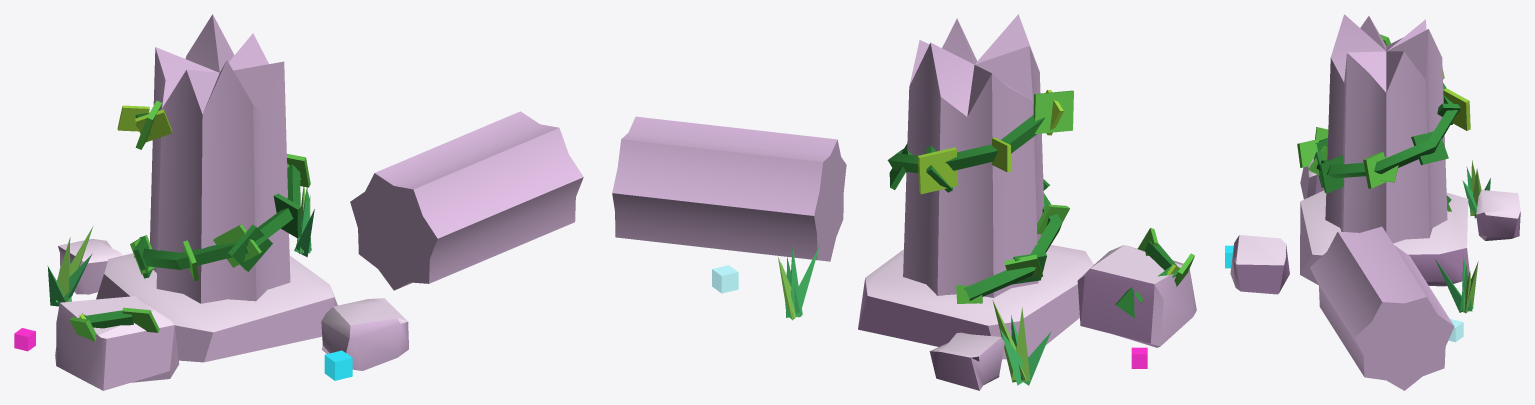
The model's file is me_ruin.glb.
The picture shows the model from 3 angles, left to right: view 1: azimuth 30°, elevation 25°; view 2: azimuth 150°, elevation 25°; view 3: azimuth 270°, elevation 25°; orthographic projection. The views are drawn at different scales.
Parts seen in each view (by area): view 1: me_ruin, fx_glow_px; view 2: me_ruin, fx_glow_px; view 3: me_ruin, fx_glow_px.
Boxes of the visible parts, <box> form: me_ruin: <box>47,14,583,390</box>; fx_glow_px: <box>14,328,352,380</box>; me_ruin: <box>612,14,1196,390</box>; fx_glow_px: <box>712,265,1147,368</box>; me_ruin: <box>1230,14,1520,390</box>; fx_glow_px: <box>1225,245,1463,342</box>.
Size of the model in its own units: 3.87 by 1.98 by 2.23.
2 materials, 2 textured.
